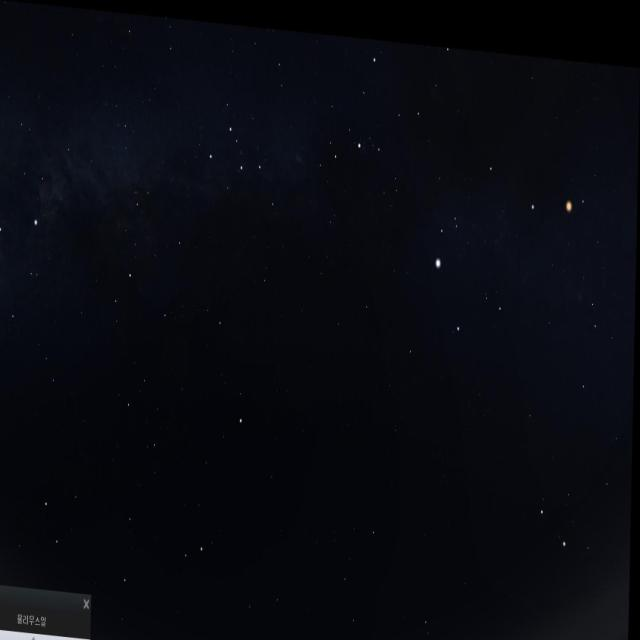cassiopeia: (199, 99, 284, 219)
